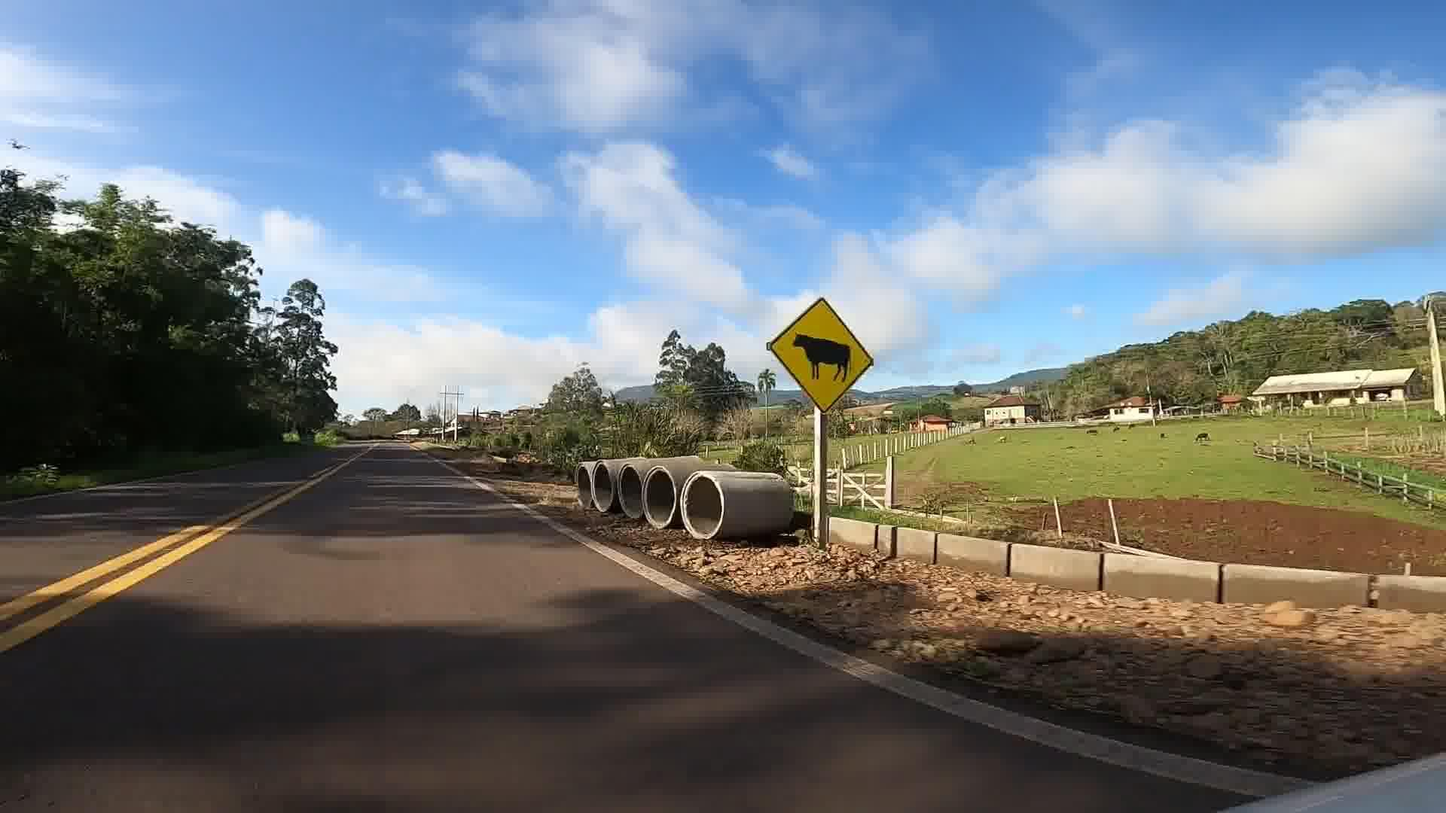A-35: (767, 300, 876, 413)
